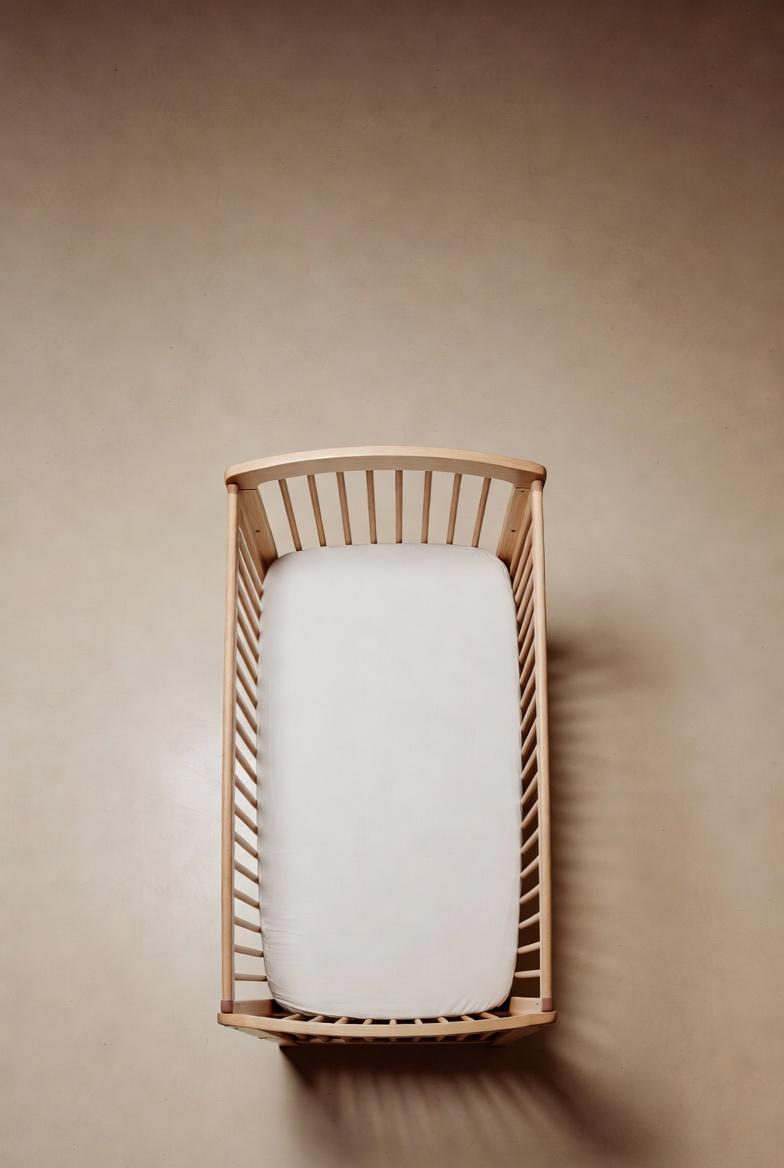crib: (219, 447, 555, 1044)
